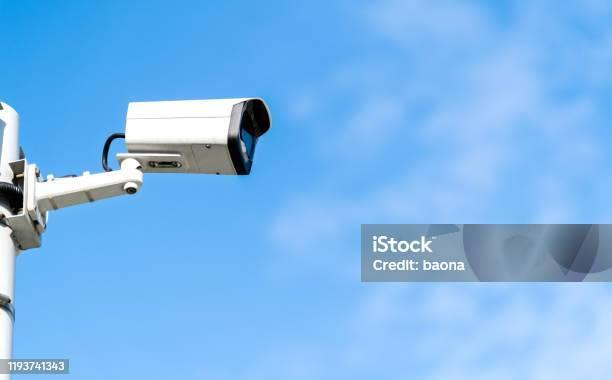------------------------------: (120, 92, 279, 180)
